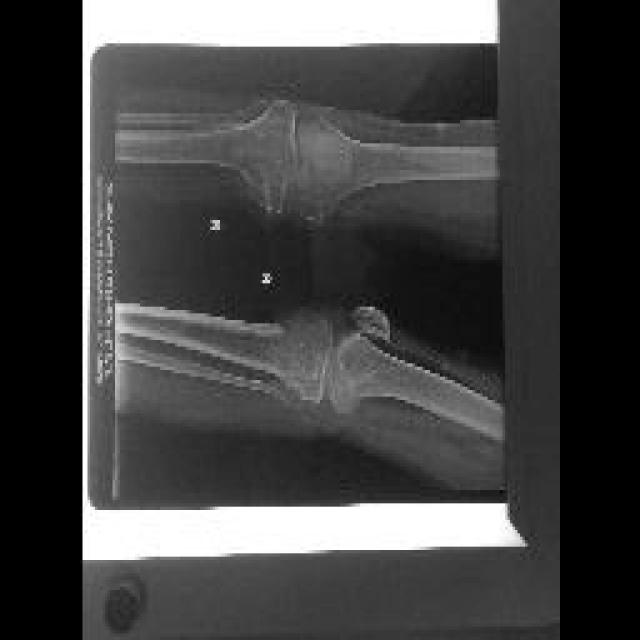bone-cancer: (234, 135, 310, 217), (264, 303, 336, 388)
